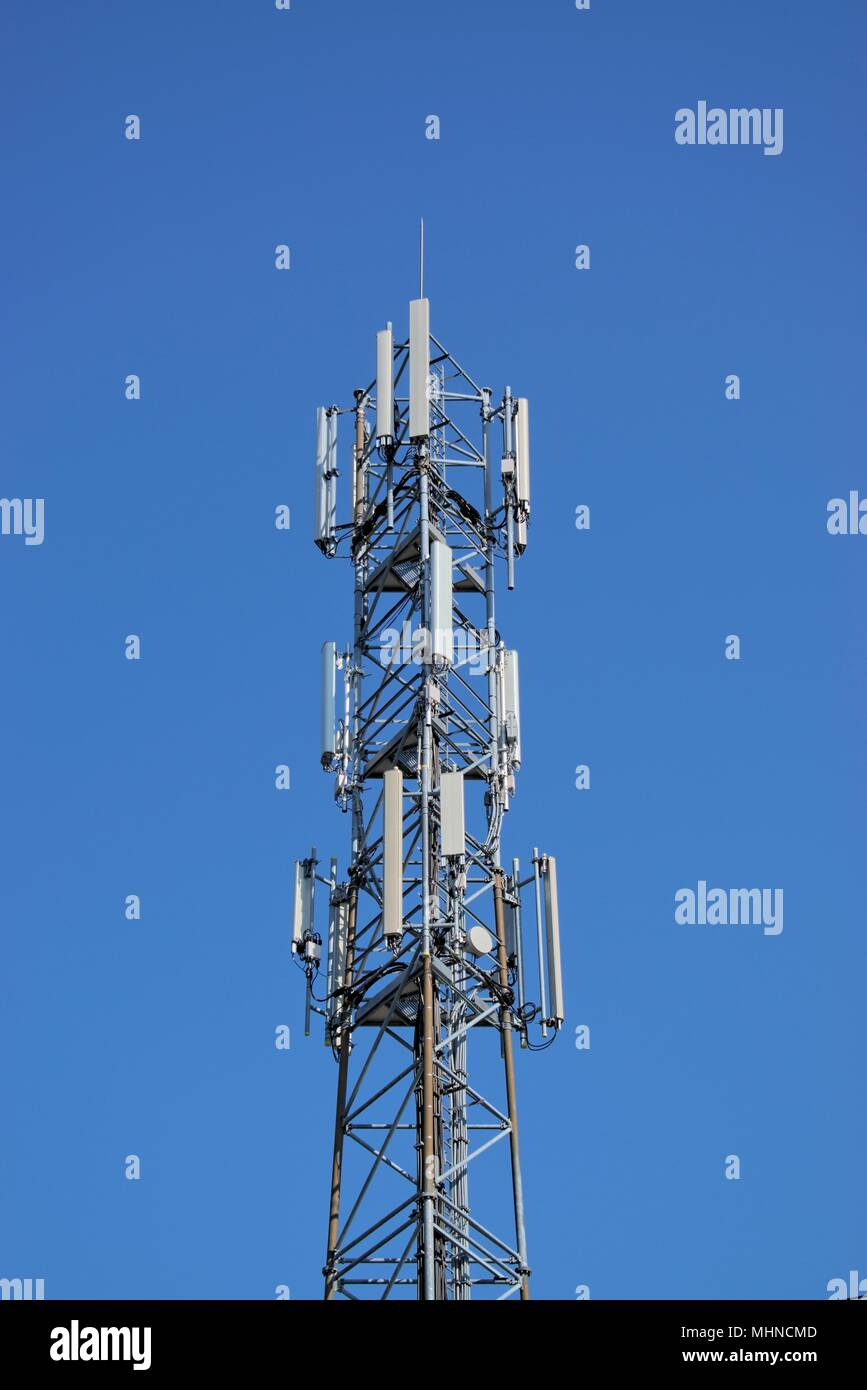sa: (359, 740, 427, 1003), (368, 274, 465, 445), (479, 628, 545, 828), (291, 366, 348, 574), (495, 375, 547, 559), (357, 310, 400, 443)
